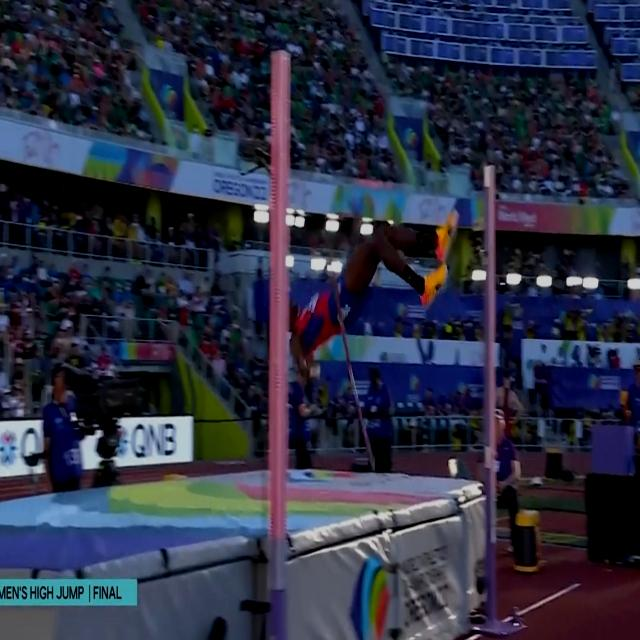land: (290, 213, 464, 364)
